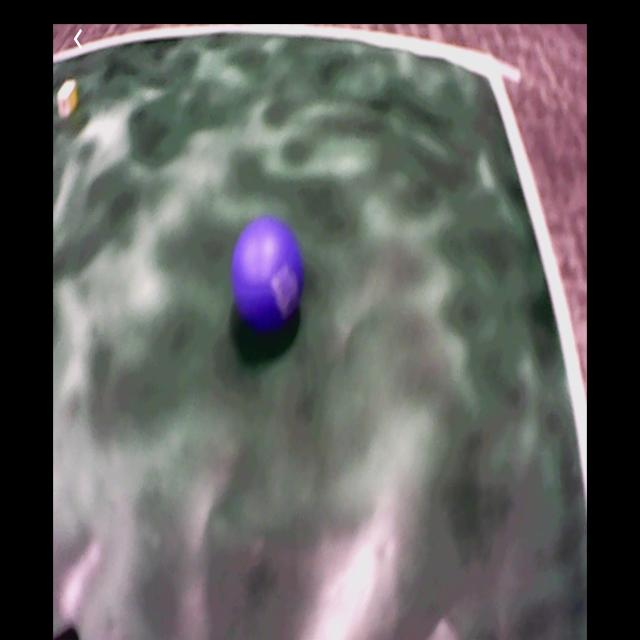ball: (233, 219, 305, 328)
